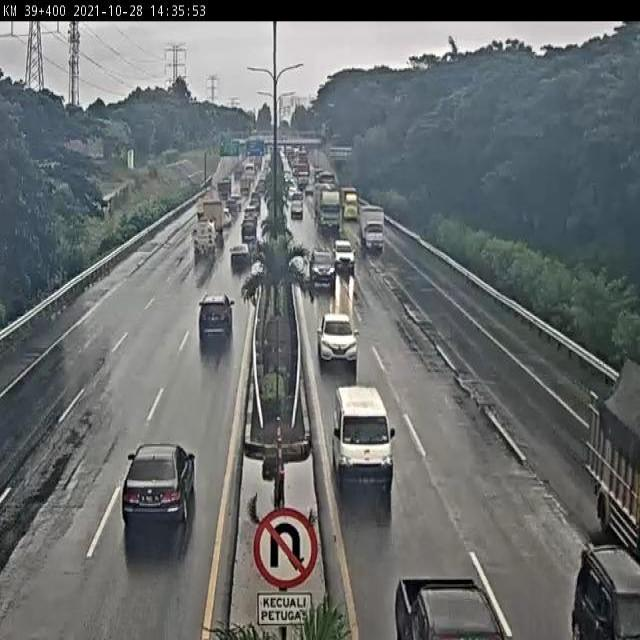big truck: (313, 190, 343, 238)
car: (536, 496, 640, 640), (376, 522, 499, 640), (115, 427, 211, 541), (327, 379, 396, 488), (311, 314, 364, 382), (188, 296, 233, 361), (302, 248, 341, 293), (225, 241, 255, 288), (331, 238, 356, 274), (239, 216, 262, 244), (289, 200, 304, 220)
small truck: (559, 340, 640, 549), (187, 219, 219, 272), (358, 203, 389, 252), (198, 192, 230, 233)
